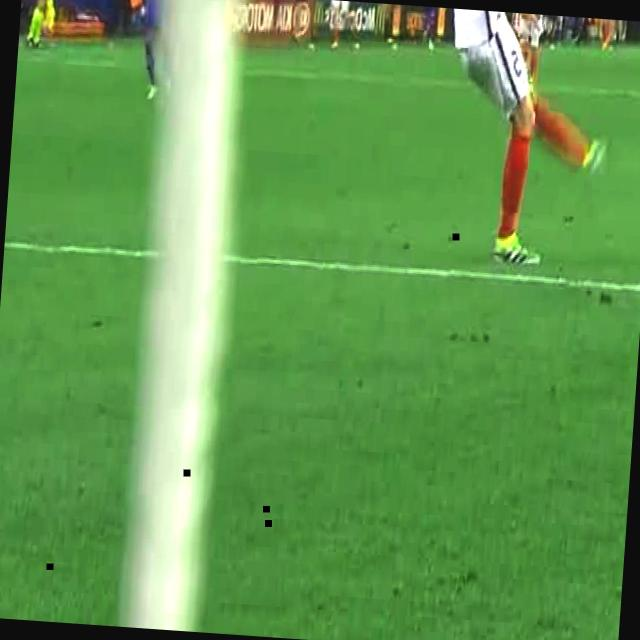player-white: (370, 4, 616, 270), (504, 13, 554, 119), (329, 0, 355, 47), (595, 18, 619, 48)
